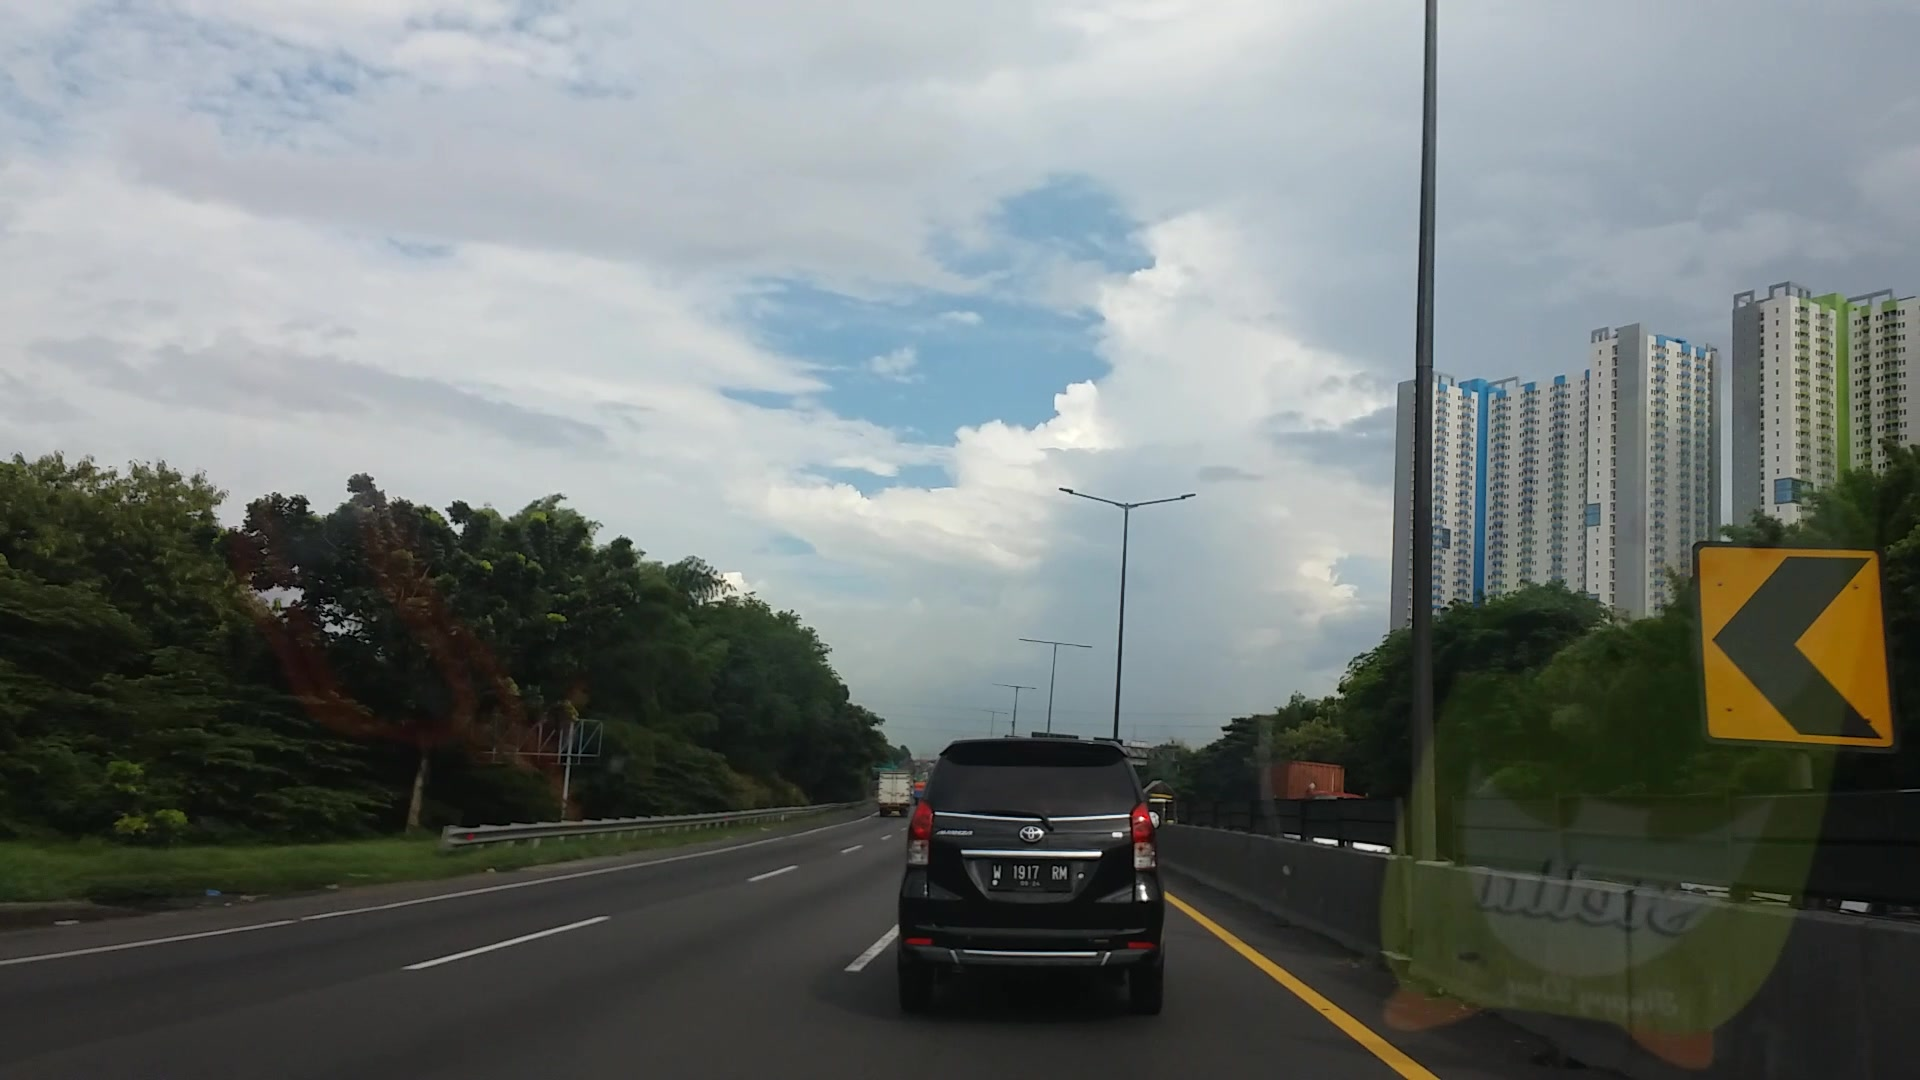plate_positive: (988, 860, 1069, 889)
